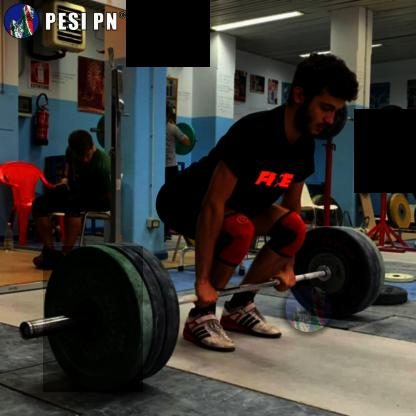barbell: (44, 247, 144, 393), (287, 227, 373, 321)
